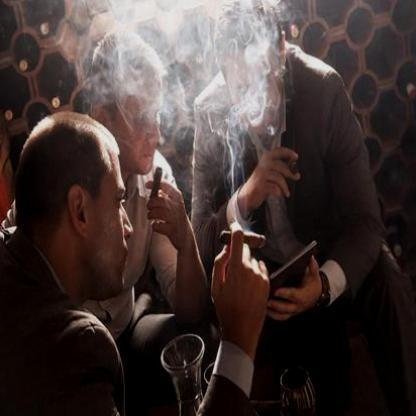cigarette: (148, 164, 164, 206)
person: (192, 15, 374, 305), (0, 122, 136, 415), (94, 34, 195, 326)
smoke: (70, 1, 218, 129), (224, 2, 282, 197)
